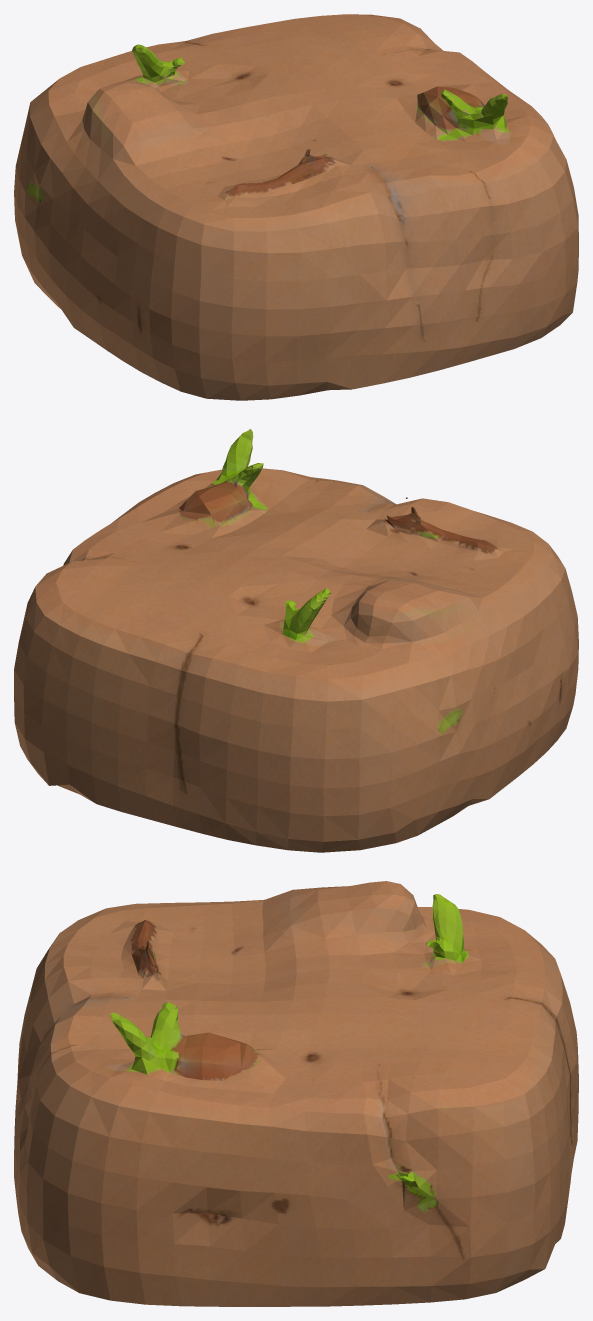
The model's file is Stage_02_Ground_SparseGrass_001.fbx.
3 views of the same model, one above another, from view 1: azimuth 30°, elevation 25°; view 2: azimuth 150°, elevation 25°; view 3: azimuth 270°, elevation 25° (orthographic). The views are drawn at different scales.
Parts seen in each view (by area): view 1: Stage_02_Ground_SparseGrass_001; view 2: Stage_02_Ground_SparseGrass_001; view 3: Stage_02_Ground_SparseGrass_001.
Part boxes in pixels (box(x1,y1,x2,y2)): Stage_02_Ground_SparseGrass_001: box(14, 14, 578, 400); Stage_02_Ground_SparseGrass_001: box(14, 429, 578, 852); Stage_02_Ground_SparseGrass_001: box(14, 881, 578, 1306).
Size of the model in its own units: 99.12 by 48.73 by 99.73.
